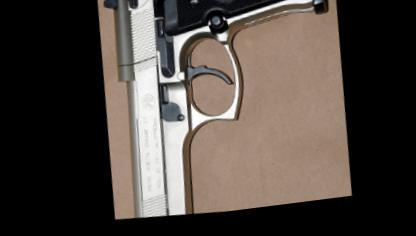pistol: (86, 0, 350, 225)
